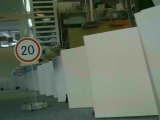speed_20: (13, 37, 42, 63)
